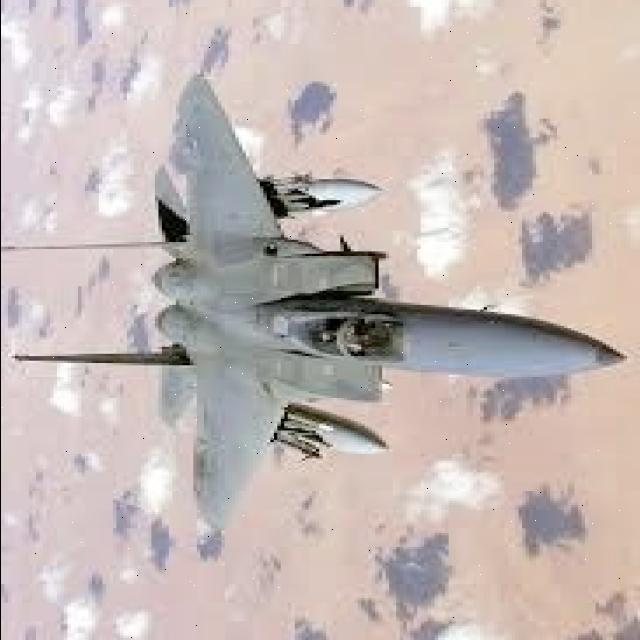F15: (5, 59, 640, 563)
